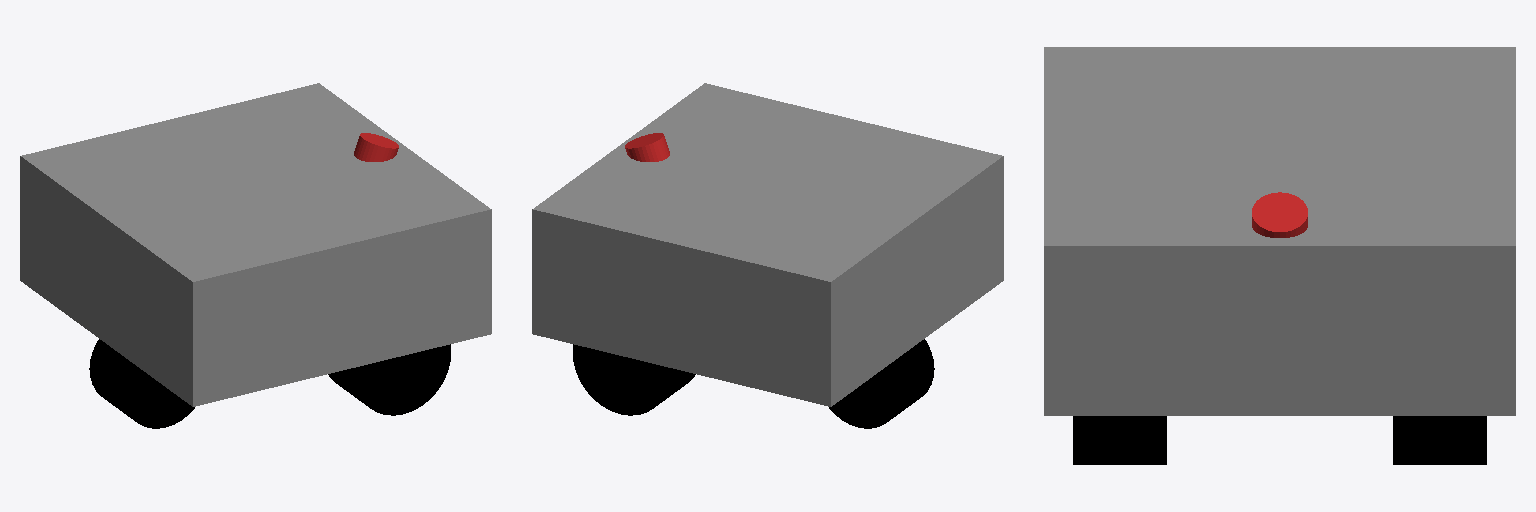
URDF robot description (sentry):
<?xml version="1.0"?>
<robot name="sentry">

  <material name="gray"><color rgba="0.6 0.6 0.6 1.0"/></material>
  <material name="black"><color rgba="0 0 0 1.0"/></material>
  <material name="red"><color rgba="0.8 0.2 0.2 1.0"/></material>

  <link name="base_link">
    <inertial>
      <mass value="12.0"/>
      <origin xyz="0 0 0" rpy="0 0 0"/>
      <inertia ixx="0.2933" ixy="0" ixz="0" iyy="0.2933" iyz="0" izz="0.4333"/>
    </inertial>

    <visual>
      <origin xyz="0 0 0.05" rpy="0 0 0"/>
      <geometry><box size="0.5 0.5 0.2"/></geometry>
      <material name="gray"/>
    </visual>

    <collision>
      <origin xyz="0 0 0.05" rpy="0 0 0"/>
      <geometry><box size="0.5 0.5 0.2"/></geometry>
    </collision>
  </link>

  <link name="left_wheel">
    <visual>
      <origin xyz="0 0 0" rpy="1.5708 0 0"/>
      <geometry>
        <cylinder length="0.10" radius="0.08"/>
      </geometry>
      <material name="black"/>
    </visual>

    <collision>
      <origin xyz="0 0 0" rpy="1.5708 0 0"/>
      <geometry>
        <cylinder length="0.10" radius="0.08"/>
      </geometry>
      <surface>
        <friction>
          <ode>
            <mu>30</mu>
            <mu2>15</mu2>
            <slip1>0.001</slip1>
            <slip2>0.001</slip2>
          </ode>
        </friction>
      </surface>
    </collision>
    <inertial>
      <mass value="1.2"/>
      <origin xyz="0 0 0" rpy="0 0 0"/>
      <inertia
        ixx="0.003733"
        ixy="0"
        ixz="0"
        iyy="0.003733"
        iyz="0"
        izz="0.000768"/>
    </inertial>
  </link>

  <joint name="left_wheel_joint" type="continuous">
    <parent link="base_link"/>
    <child link="left_wheel"/>
    <origin xyz="0.12 0.17 -0.08" rpy="0 0 0"/>
    <axis xyz="0 1 0"/>
    <limit effort="120.0" velocity="30.0"/>
    <dynamics damping="0.05" friction="0.05"/>
    <physics>
      <ode>
        <stopCfm>0.001</stopCfm>
        <stopErp>0.8</stopErp>
      </ode>
    </physics>
  </joint>

  <link name="right_wheel">
    <visual>
      <origin xyz="0 0 0" rpy="1.5708 0 0"/>
      <geometry>
        <cylinder length="0.10" radius="0.08"/>
      </geometry>
      <material name="black"/>
    </visual>

    <collision>
      <origin xyz="0 0 0" rpy="1.5708 0 0"/>
      <geometry>
        <cylinder length="0.10" radius="0.08"/>
      </geometry>
      <surface>
        <friction>
          <ode>
            <mu>30</mu>
            <mu2>15</mu2>
            <slip1>0.001</slip1>
            <slip2>0.001</slip2>
          </ode>
        </friction>
      </surface>
    </collision>

    <inertial>
      <mass value="1.2"/>
      <origin xyz="0 0 0" rpy="0 0 0"/>
      <inertia
        ixx="0.003733"
        ixy="0"
        ixz="0"
        iyy="0.003733"
        iyz="0"
        izz="0.000768"/>
    </inertial>
  </link>

  <joint name="right_wheel_joint" type="continuous">
    <parent link="base_link"/>
    <child link="right_wheel"/>
    <origin xyz="0.12 -0.17 -0.08" rpy="0 0 0"/>
    <axis xyz="0 1 0"/>
    <limit effort="120.0" velocity="30.0"/>
    <dynamics damping="0.05" friction="0.05"/>
    <physics>
      <ode>
        <stopCfm>0.001</stopCfm>
        <stopErp>0.8</stopErp>
      </ode>
    </physics>
  </joint>

  <link name="caster">
    <visual>
      <origin xyz="0 0 0" rpy="1.5708 0 0"/>
      <geometry><cylinder radius="0.07" length="0.10"/></geometry>
      <material name="black"/>
    </visual>
    <collision>
      <origin xyz="0 0 0" rpy="1.5708 0 0"/>
      <geometry><cylinder radius="0.06" length="0.12"/></geometry>
      <surface>
        <friction>
          <ode>
            <mu>5</mu>
            <mu2>2</mu2>
            <slip1>0.002</slip1>
            <slip2>0.002</slip2>
          </ode>
        </friction>
      </surface>
    </collision>
    <inertial>
      <mass value="0.8"/>
      <origin xyz="0 0 0" rpy="0 0 0"/>
      <inertia ixx="0.000821" ixy="0" ixz="0" iyy="0.0004105" iyz="0" izz="0.0004105"/>
    </inertial>
  </link>

  <joint name="caster_wheel_joint" type="continuous">
    <parent link="base_link"/>
    <child link="caster"/>
    <origin xyz="-0.18 0.0 -0.11" rpy="0 0 0"/>
    <axis xyz="0 1 0"/>
  </joint>

  <link name="lidar_link">
    <visual>
      <geometry>
        <cylinder length="0.04" radius="0.03"/>
      </geometry>
      <material name="red"/>
    </visual>
  </link>

  <joint name="lidar_joint" type="fixed">
    <parent link="base_link"/>
    <child link="lidar_link"/>
    <origin xyz="0.20 0.0 0.15" rpy="0 0.349 0"/>
  </joint>

  <link name="imu_link">
    <visual>
      <geometry><box size="0.02 0.02 0.02"/></geometry>
      <material name="red"/>
    </visual>
  </link>

  <joint name="imu_joint" type="fixed">
    <parent link="base_link"/>
    <child link="imu_link"/>
    <origin xyz="0.011 0.02329 0.00588" rpy="0 0 0"/>
  </joint>

  <gazebo reference="lidar_link">
    <sensor name="lidar_sensor" type="gpu_lidar">
      <ignition_frame_id>lidar_link</ignition_frame_id>
      <always_on>true</always_on>
      <update_rate>20</update_rate>
      <visualize>true</visualize>
      <topic>/lidar</topic>
      <namespace></namespace>
      <ray>
        <scan>
          <horizontal>
            <samples>1500</samples>
            <resolution>1.0</resolution>
            <min_angle>0</min_angle>
            <max_angle>6.2831852</max_angle>
          </horizontal>
          <vertical>
            <samples>128</samples>
            <min_angle>-0.12217304764</min_angle>
            <max_angle>0.90757121104</max_angle>
          </vertical>
        </scan>
        <range>
          <min>0.1</min>
          <max>50.0</max>
        </range>
      </ray>
      <noise>
        <type>gaussian</type>
        <mean>0.0</mean>
        <stddev>0.005</stddev>
      </noise>
    </sensor>
  </gazebo>
  
  <gazebo reference="caster">
    <mu1 value="5"/>
    <mu2 value="2"/>
  </gazebo>
  
  <gazebo reference="left_wheel">
    <mu1 value="1.5"/>
    <mu2 value="1.5"/>
  </gazebo>
  
  <gazebo reference="right_wheel">
    <mu1 value="1.5"/>
    <mu2 value="1.5"/>
  </gazebo>

  <gazebo reference="imu_link">
    <sensor name="imu_sensor" type="imu">
      <ignition_frame_id>imu_link</ignition_frame_id>
      <always_on>true</always_on>
      <update_rate>100</update_rate>
      <topic>/livox/imu</topic>
      <namespace>my_diffbot</namespace>
      <imu>
        <angular_velocity>
          <x>
            <noise type="gaussian"><mean>0.0</mean><stddev>0.0002</stddev></noise>
          </x>
          <y>
            <noise type="gaussian"><mean>0.0</mean><stddev>0.0002</stddev></noise>
          </y>
          <z>
            <noise type="gaussian"><mean>0.0</mean><stddev>0.0002</stddev></noise>
          </z>
        </angular_velocity>
        <linear_acceleration>
          <x>
            <noise type="gaussian"><mean>0.0</mean><stddev>0.01</stddev></noise>
          </x>
          <y>
            <noise type="gaussian"><mean>0.0</mean><stddev>0.01</stddev></noise>
          </y>
          <z>
            <noise type="gaussian"><mean>0.0</mean><stddev>0.01</stddev></noise>
          </z>
        </linear_acceleration>
      </imu>
    </sensor>
  </gazebo>

  <ros2_control name="GazeboSimSystem" type="system">
    <hardware>
      <plugin>gz_ros2_control/GazeboSimSystem</plugin>
    </hardware>
  
    <joint name="left_wheel_joint">
      <command_interface name="velocity">
        <param name="min">-80</param>
        <param name="max">80</param>
      </command_interface>
      <state_interface name="position"/>
      <state_interface name="velocity"/>
    </joint>
    
    <joint name="right_wheel_joint">
      <command_interface name="velocity">
        <param name="min">-80</param>
        <param name="max">80</param>
      </command_interface>
      <state_interface name="position"/>
      <state_interface name="velocity"/>
    </joint>

    <joint name="caster_wheel_joint">
      <state_interface name="position"/>
      <state_interface name="velocity"/>
    </joint>
  </ros2_control>

  <gazebo>
    <plugin filename="libgz_ros2_control-system.so" name="gz_ros2_control::GazeboSimROS2ControlPlugin">
      <parameters>__VELOCITY_CONTROLLER_CONFIG__</parameters>
    </plugin>
  </gazebo>

</robot>

--- Facts derived from the render (not from the file) ---
Views: 3 orthographic renders of the robot side by side, from view 1: azimuth 30°, elevation 25°; view 2: azimuth 150°, elevation 25°; view 3: azimuth 270°, elevation 25°.
Robot: sentry — 6 links, 5 joints (3 continuous, 2 fixed); root link base_link; default pose: all joints at 0.
Visible links, largest first — view 1: base_link, right_wheel, caster, lidar_link; view 2: base_link, left_wheel, caster, lidar_link; view 3: base_link, left_wheel, right_wheel, lidar_link.
Link boxes in pixels (x1=…): base_link: x1=20, y1=83, x2=491, y2=406; right_wheel: x1=328, y1=344, x2=450, y2=415; caster: x1=89, y1=339, x2=194, y2=428; lidar_link: x1=354, y1=133, x2=398, y2=161; base_link: x1=532, y1=83, x2=1003, y2=406; left_wheel: x1=573, y1=344, x2=695, y2=415; caster: x1=829, y1=339, x2=934, y2=428; lidar_link: x1=625, y1=133, x2=669, y2=161; base_link: x1=1044, y1=47, x2=1515, y2=415; left_wheel: x1=1393, y1=416, x2=1486, y2=464; right_wheel: x1=1073, y1=416, x2=1166, y2=464; lidar_link: x1=1252, y1=192, x2=1307, y2=237.
Bounding box of the posed robot: 0.5 × 0.5 × 0.3591 m (x, y, z).
Geometry: primitives only (box / cylinder / sphere), no mesh files.
